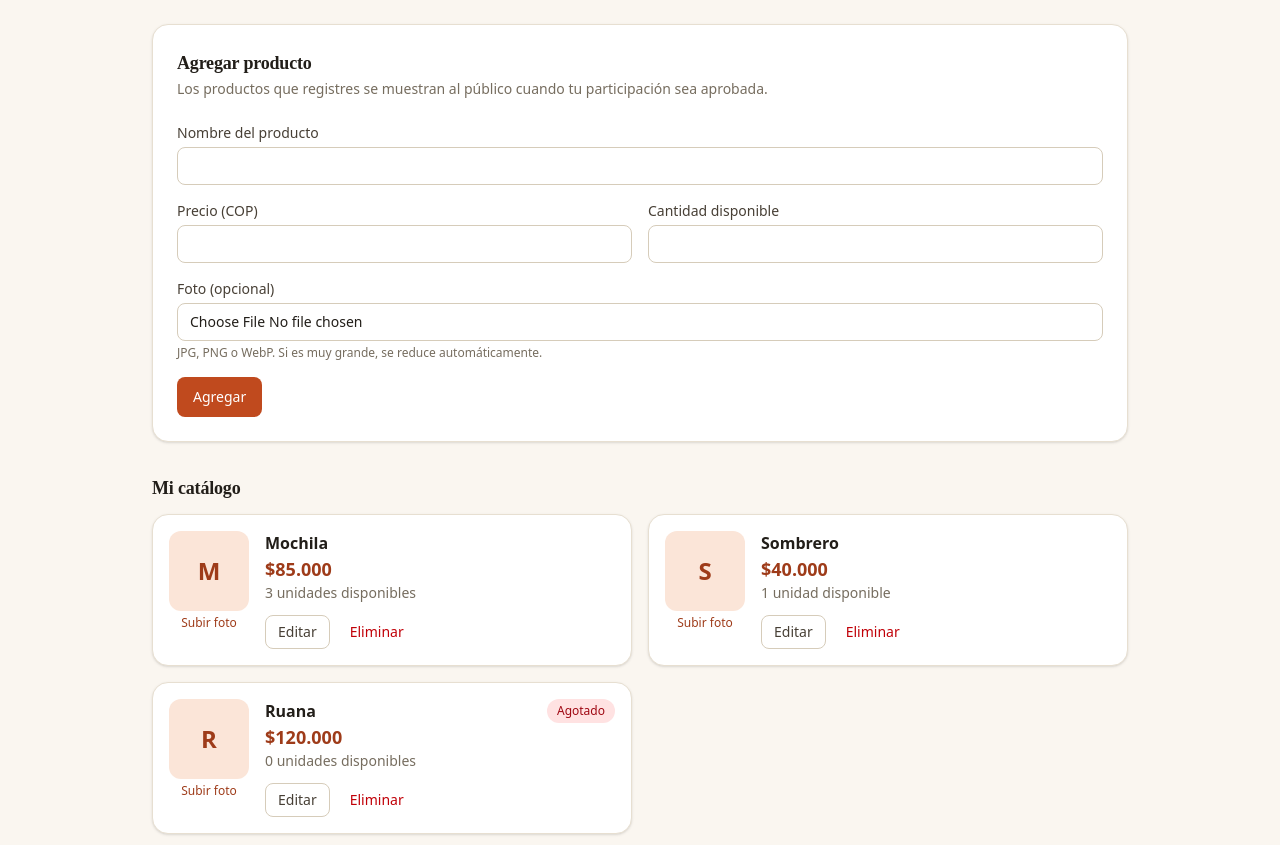
Scenario: PanelArtesano: editar producto › guarda los cambios
(page scrolled)
Expected: the heading "Mochila" is shown, x1=265 y1=531 x2=328 y2=555
Click the button "Editar" below "85.000" at (297, 632), box x1=265 y1=615 x2=330 y2=649
(page scrolled)
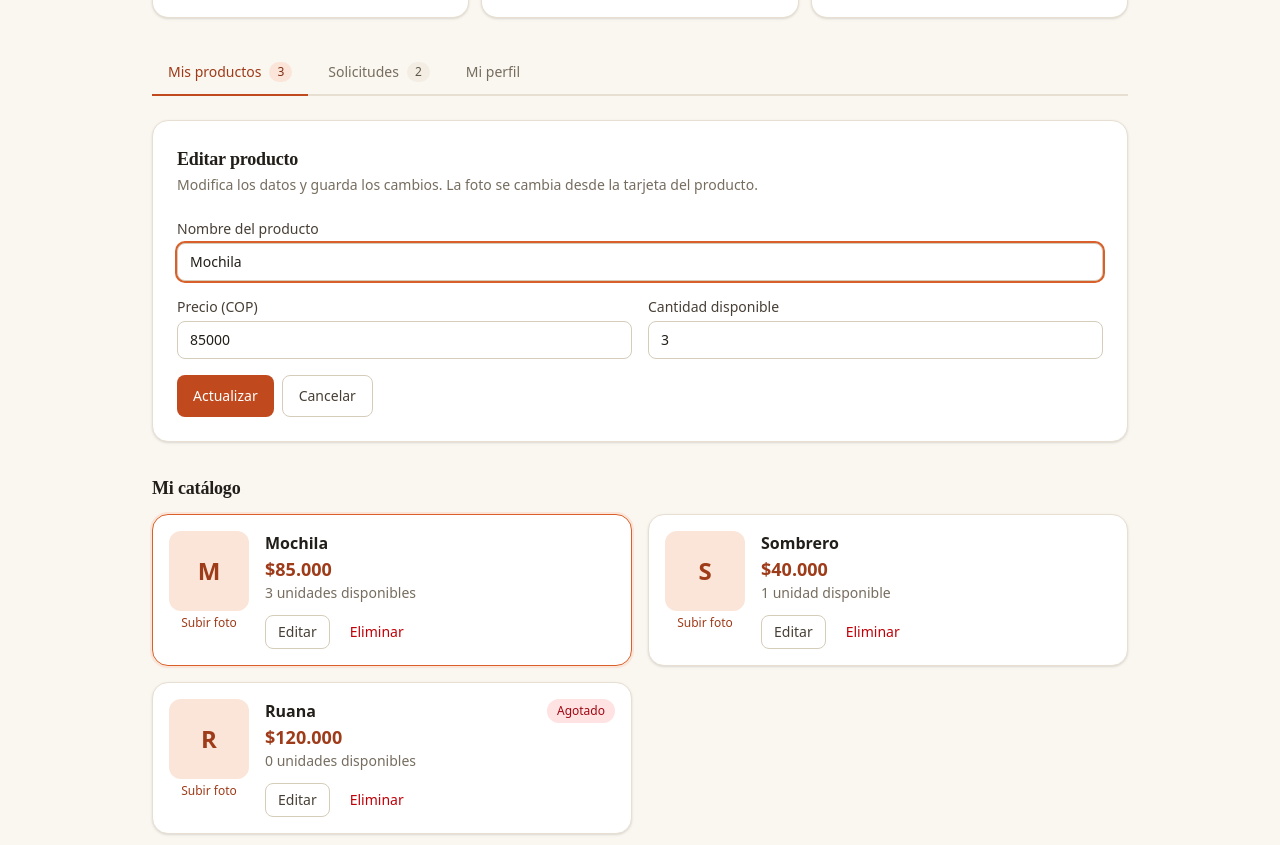
Replace the text in the number field labelled "Cantidad disponible" with "9" at (876, 340), box x1=648 y1=321 x2=1103 y2=359
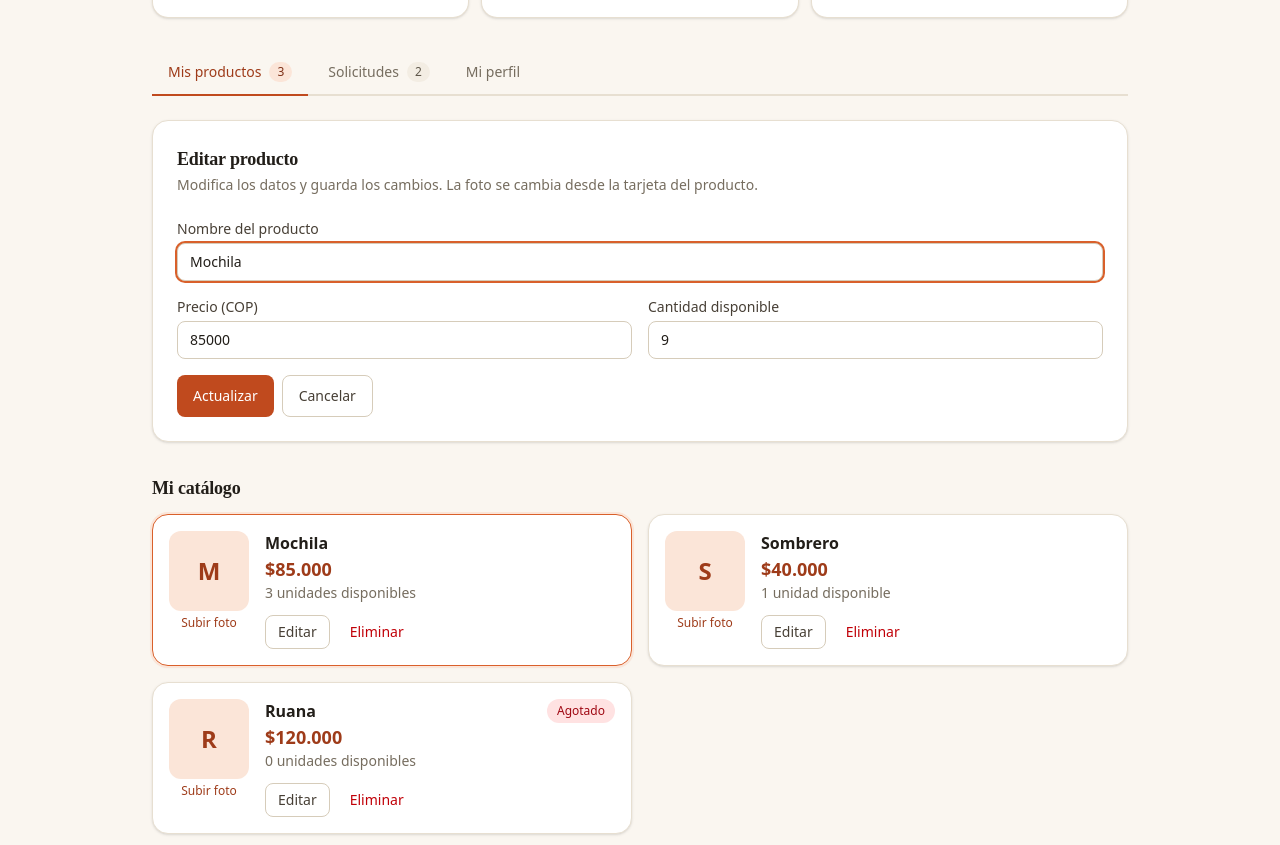
Click the button "Actualizar" at (225, 396), box x1=177 y1=375 x2=274 y2=417
(page scrolled)
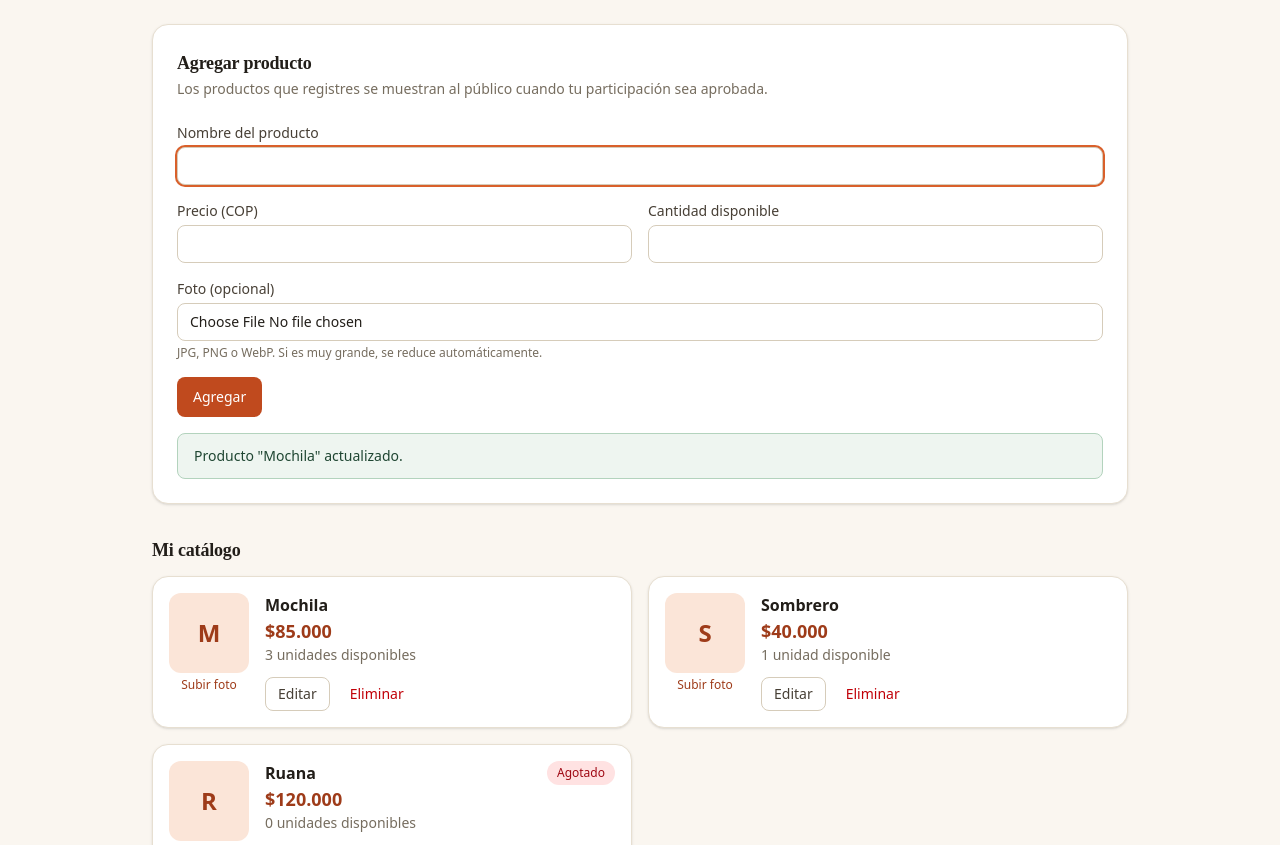
Now the text "Producto \"Mochila\" actualizado." is shown, box x1=177 y1=433 x2=1103 y2=479
Now the heading "Agregar producto" is shown, box x1=177 y1=53 x2=312 y2=73
